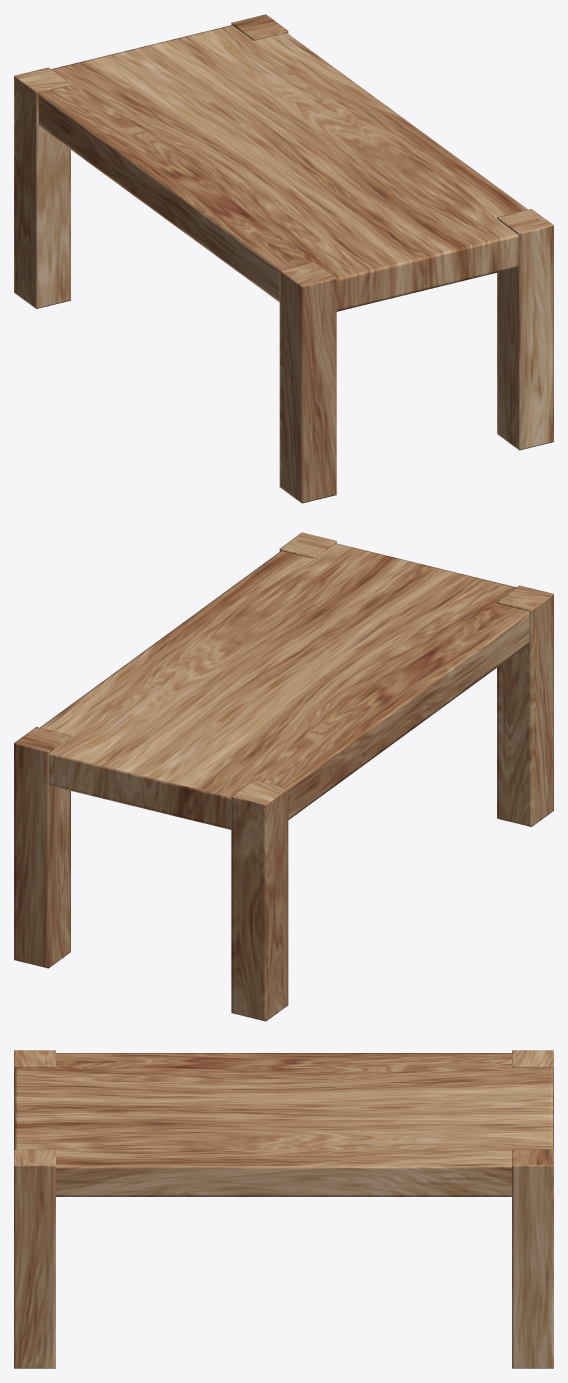
Rendered from table_01.obj.
3 views of the same model, one above another, from view 1: azimuth 30°, elevation 25°; view 2: azimuth 150°, elevation 25°; view 3: azimuth 270°, elevation 25° (orthographic). The views are drawn at different scales.
Parts seen in each view (by area): view 1: table_01; view 2: table_01; view 3: table_01.
Boxes of the visible parts, box(x1,y1,x2,y2) form: table_01: box(14, 14, 553, 503); table_01: box(14, 532, 553, 1021); table_01: box(14, 1050, 553, 1368).
Bounding box in the file's own units: 1.93 × 1.58 × 3.81.
